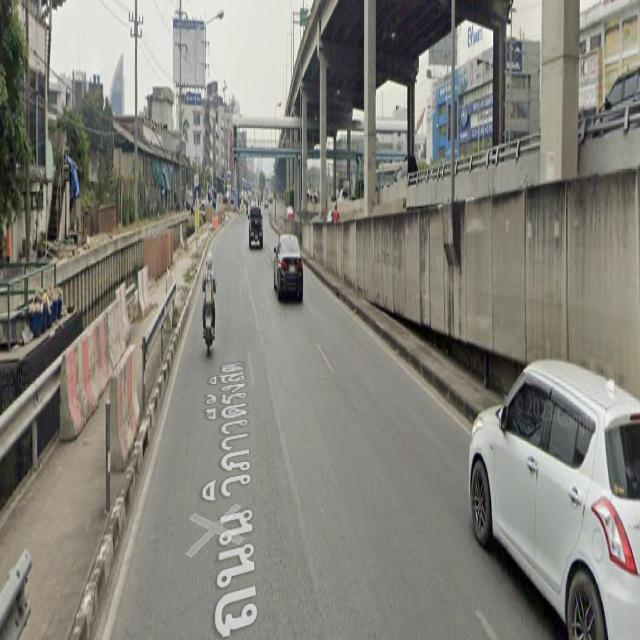fallen_object: (20, 277, 169, 473)
